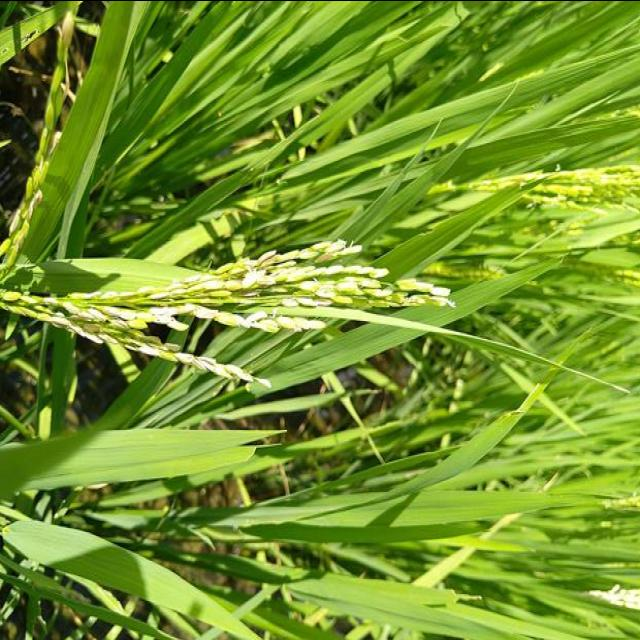Panicle Blight: (0, 239, 449, 390)
